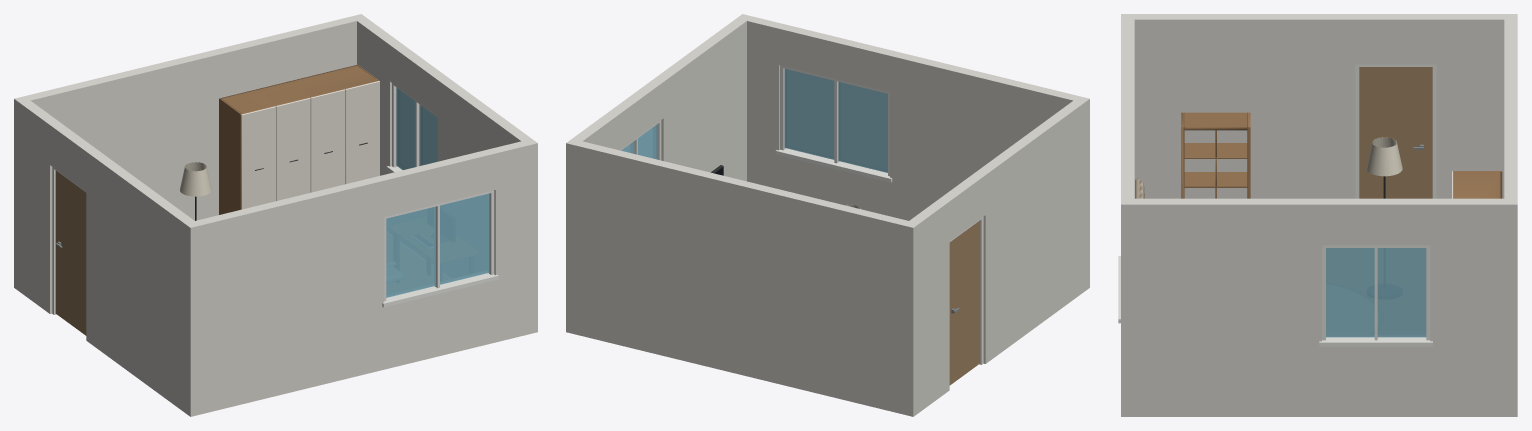
File: oursv11b.glb
3 views of the same model, side by side, from view 1: azimuth 30°, elevation 25°; view 2: azimuth 150°, elevation 25°; view 3: azimuth 270°, elevation 25° (orthographic). The views are drawn at different scales.
Parts seen in each view (by area): view 1: wall|scenesmith_064__R00|0, wall|scenesmith_064__R00|2, wall|scenesmith_064__R00|1, Arm pad, wall|scenesmith_064__R00|3, wall|scenesmith_064__R00|0 Window 0 | glazing, Bay divider, wall|scenesmith_064__R00|2 Door 0 | wood leaf, wall|scenesmith_064__R00|3 Window 0 | glazing, wall|scenesmith_064__R00|0 Window 0 | jamb, wall|scenesmith_064__R00|3 Window 0 | jamb, Backrest (+1 smaller); view 2: wall|scenesmith_064__R00|1, wall|scenesmith_064__R00|0, wall|scenesmith_064__R00|2, wall|scenesmith_064__R00|3, wall|scenesmith_064__R00|0 Window 0 | glazing, wall|scenesmith_064__R00|2 Door 0 | wood leaf, wall|scenesmith_064__R00|0 Window 0 | jamb, wall|scenesmith_064__R00|2 Door 0 | jamb, wall|scenesmith_064__R00|3 Window 0 | glazing; view 3: wall|scenesmith_064__R00|3, wall|scenesmith_064__R00|2, wall|scenesmith_064__R00|3 Window 0 | glazing, wall|scenesmith_064__R00|2 Door 0 | wood leaf, wall|scenesmith_064__R00|1, Bay divider, wall|scenesmith_064__R00|3 Window 0 | jamb, wall|scenesmith_064__R00|0, wall|scenesmith_064__R00|2 Door 0 | jamb, Backrest.
Part boxes in pixels (x1,y1,x2,y2): wall|scenesmith_064__R00|0: (195,139,537,414); wall|scenesmith_064__R00|2: (14,96,200,416); wall|scenesmith_064__R00|1: (14,14,366,291); Arm pad: (241,81,379,209); wall|scenesmith_064__R00|3: (353,16,536,175); wall|scenesmith_064__R00|0 Window 0 | glazing: (386,193,489,297); Bay divider: (219,64,379,214); wall|scenesmith_064__R00|2 Door 0 | wood leaf: (55,170,86,335); wall|scenesmith_064__R00|3 Window 0 | glazing: (396,87,437,169); wall|scenesmith_064__R00|0 Window 0 | jamb: (382,190,498,307); wall|scenesmith_064__R00|3 Window 0 | jamb: (386,83,437,172); Backrest: (180,162,211,196); wall|scenesmith_064__R00|1: (566,139,919,416); wall|scenesmith_064__R00|0: (737,14,1078,220); wall|scenesmith_064__R00|2: (903,96,1089,416); wall|scenesmith_064__R00|3: (572,14,752,181); wall|scenesmith_064__R00|0 Window 0 | glazing: (784,68,887,172); wall|scenesmith_064__R00|2 Door 0 | wood leaf: (949,220,980,385); wall|scenesmith_064__R00|0 Window 0 | jamb: (775,65,892,182); wall|scenesmith_064__R00|2 Door 0 | jamb: (949,217,983,364); wall|scenesmith_064__R00|3 Window 0 | glazing: (621,124,656,159); wall|scenesmith_064__R00|3: (1121,198,1517,416); wall|scenesmith_064__R00|2: (1121,14,1517,198); wall|scenesmith_064__R00|3 Window 0 | glazing: (1326,248,1426,337); wall|scenesmith_064__R00|2 Door 0 | wood leaf: (1359,67,1432,198); wall|scenesmith_064__R00|1: (1504,19,1517,416); Bay divider: (1181,112,1502,198); wall|scenesmith_064__R00|3 Window 0 | jamb: (1319,245,1432,346); wall|scenesmith_064__R00|0: (1121,19,1134,204); wall|scenesmith_064__R00|2 Door 0 | jamb: (1355,64,1436,198); Backrest: (1366,137,1402,176).
Size of the model in its own units: 5.03 by 2.61 by 4.43.
